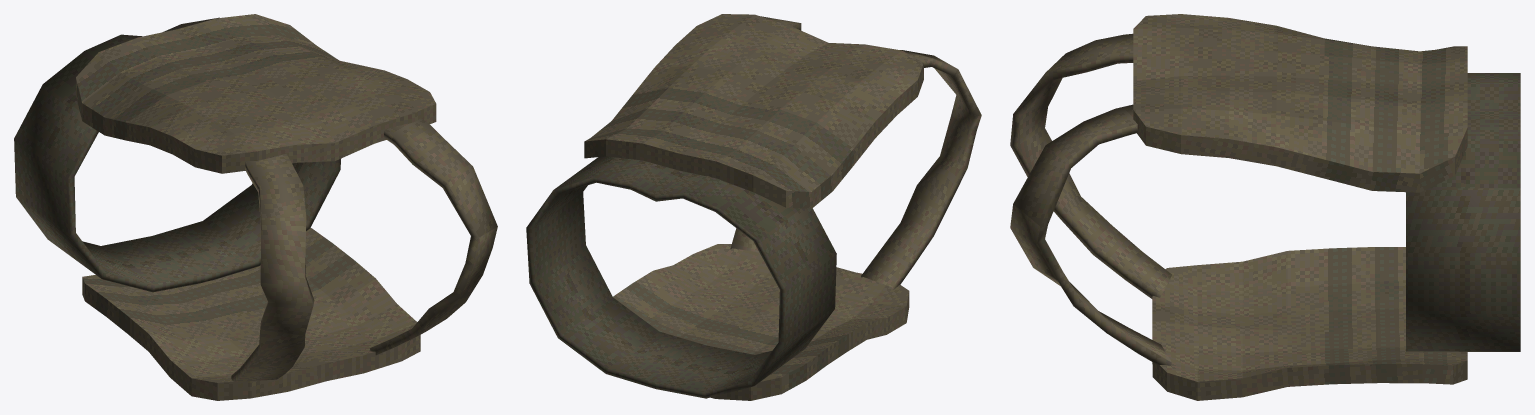
File: body_armor.glb
The picture shows the model from 3 angles, left to right: view 1: azimuth 30°, elevation 25°; view 2: azimuth 150°, elevation 25°; view 3: azimuth 270°, elevation 25°; orthographic projection. The views are drawn at different scales.
Parts seen in each view (by area): view 1: body_armor_ground; view 2: body_armor_ground; view 3: body_armor_ground.
Part boxes in pixels (x1=…): body_armor_ground: x1=14, y1=14, x2=497, y2=400; body_armor_ground: x1=526, y1=14, x2=981, y2=400; body_armor_ground: x1=1010, y1=14, x2=1520, y2=400.
Size of the model in its own units: 0.3521 by 0.3292 by 0.5345.
1 material, 1 textured.
